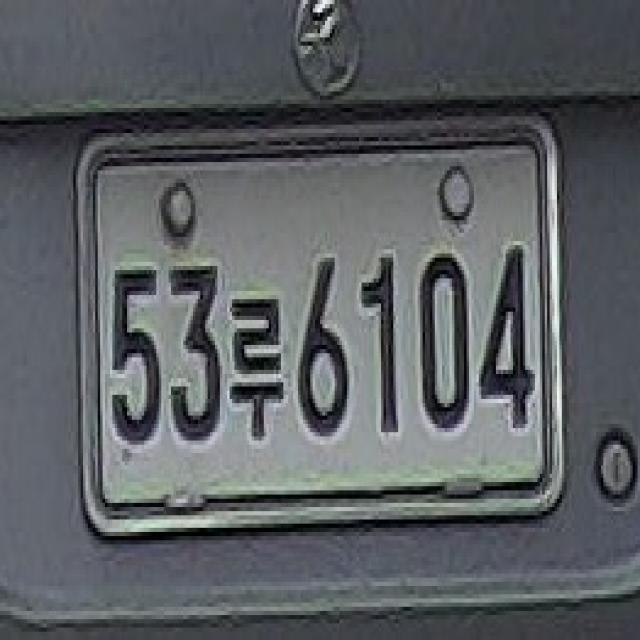0: (408, 240, 474, 442)
1: (351, 241, 404, 453)
3: (167, 251, 226, 453)
4: (479, 230, 540, 450)
5: (104, 261, 166, 451)
6: (288, 242, 350, 460)
license_plate: (75, 108, 566, 538)
lu: (230, 288, 282, 462)
